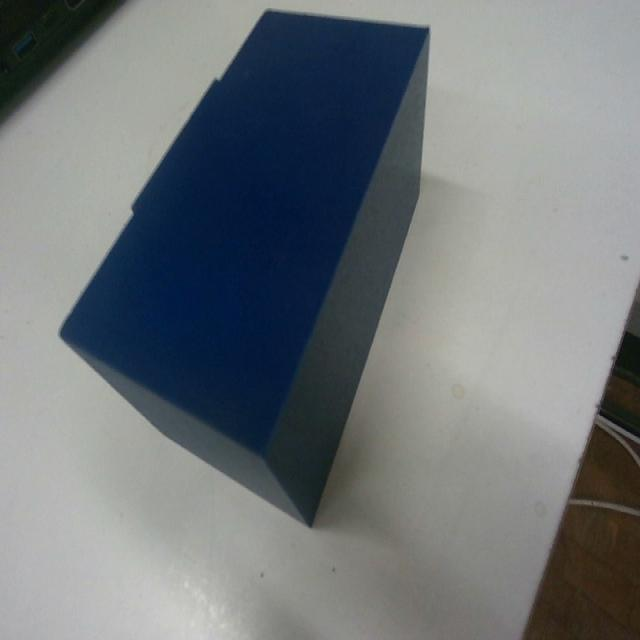Blue Cuboid: (57, 6, 432, 526)
